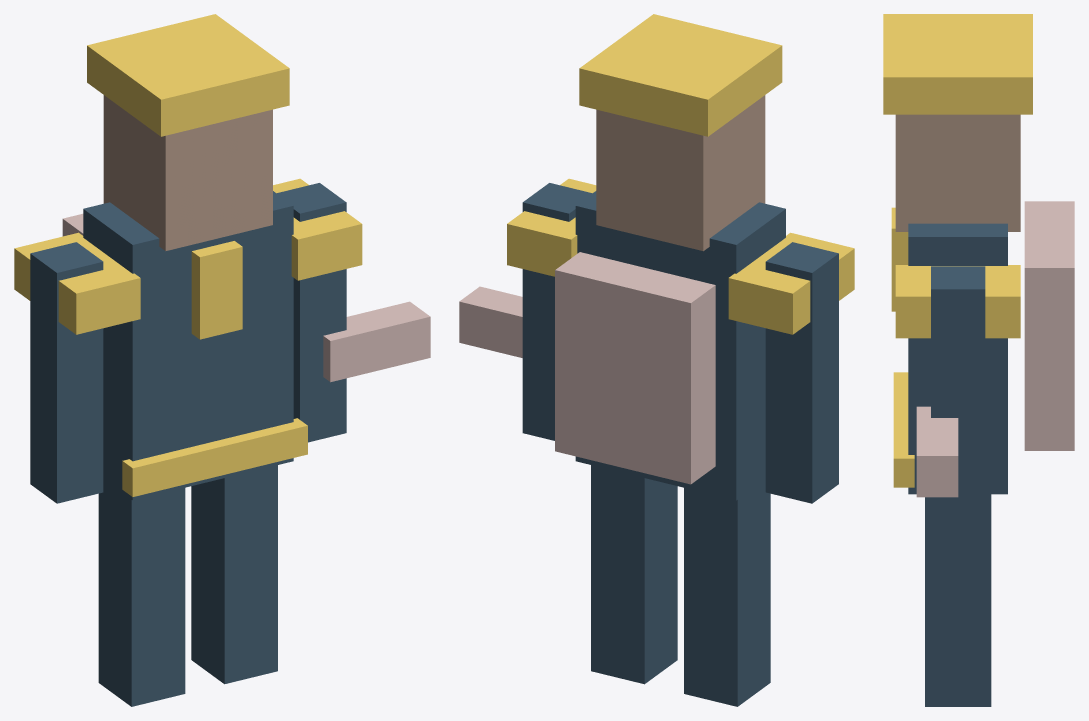
The model's file is 12_ilyra_glassroot_runner_of_flash.glb.
3 renders of one model, left to right at view 1: azimuth 30°, elevation 25°; view 2: azimuth 150°, elevation 25°; view 3: azimuth 270°, elevation 25°, orthographic.
Visible parts, largest first — view 1: Ilyra Glassroot, Runner of Flash; view 2: Ilyra Glassroot, Runner of Flash; view 3: Ilyra Glassroot, Runner of Flash.
Part boxes in pixels (x1,y1,x2,y2): Ilyra Glassroot, Runner of Flash: (14, 14, 430, 706); Ilyra Glassroot, Runner of Flash: (459, 14, 854, 706); Ilyra Glassroot, Runner of Flash: (883, 14, 1074, 706).
Bounding box in the file's own units: 0.9998 × 1.62 × 0.4487.
